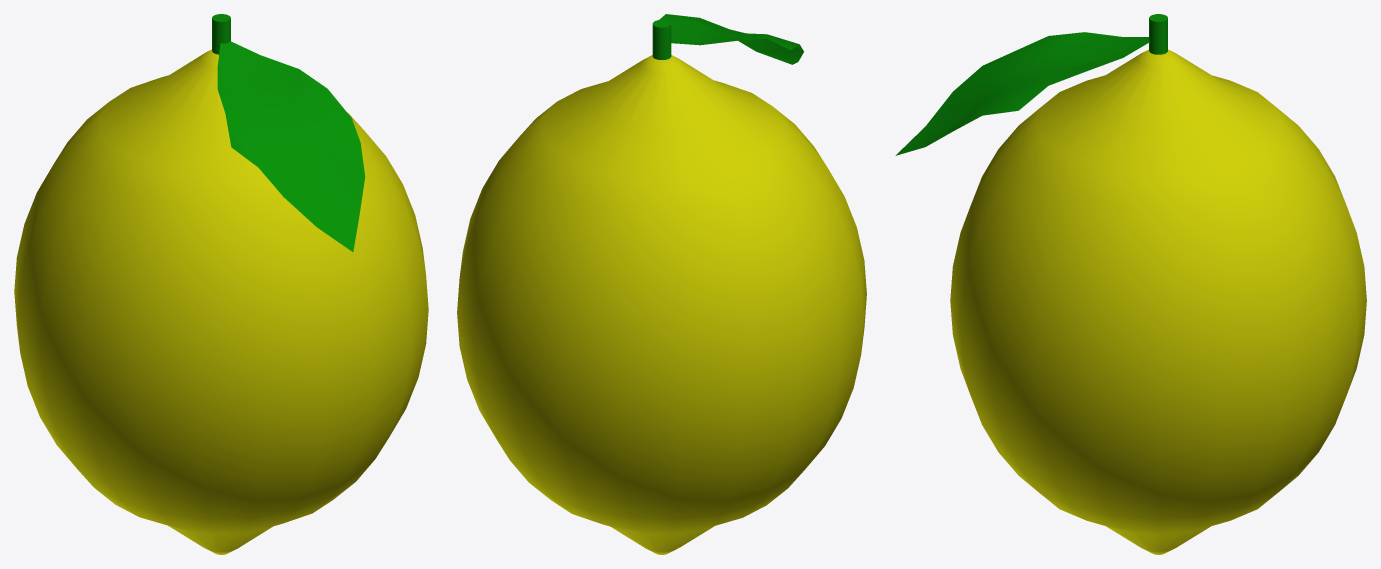
Rendered from lemon.fbx.
The picture shows the model from 3 angles, left to right: view 1: azimuth 30°, elevation 25°; view 2: azimuth 150°, elevation 25°; view 3: azimuth 270°, elevation 25°; orthographic projection.
Parts seen in each view (by area): view 1: pSphere27, group5_pPlane4; view 2: pSphere27, group5_pPlane4; view 3: pSphere27, group5_pPlane4.
Part boxes in pixels (x1,y1,x2,y2): pSphere27: (14,49,428,554); group5_pPlane4: (212,14,365,251); pSphere27: (457,55,866,554); group5_pPlane4: (652,14,803,64); pSphere27: (950,49,1366,554); group5_pPlane4: (895,14,1167,155).
Bounding box in the file's own units: 70 × 98.95 × 79.28.
